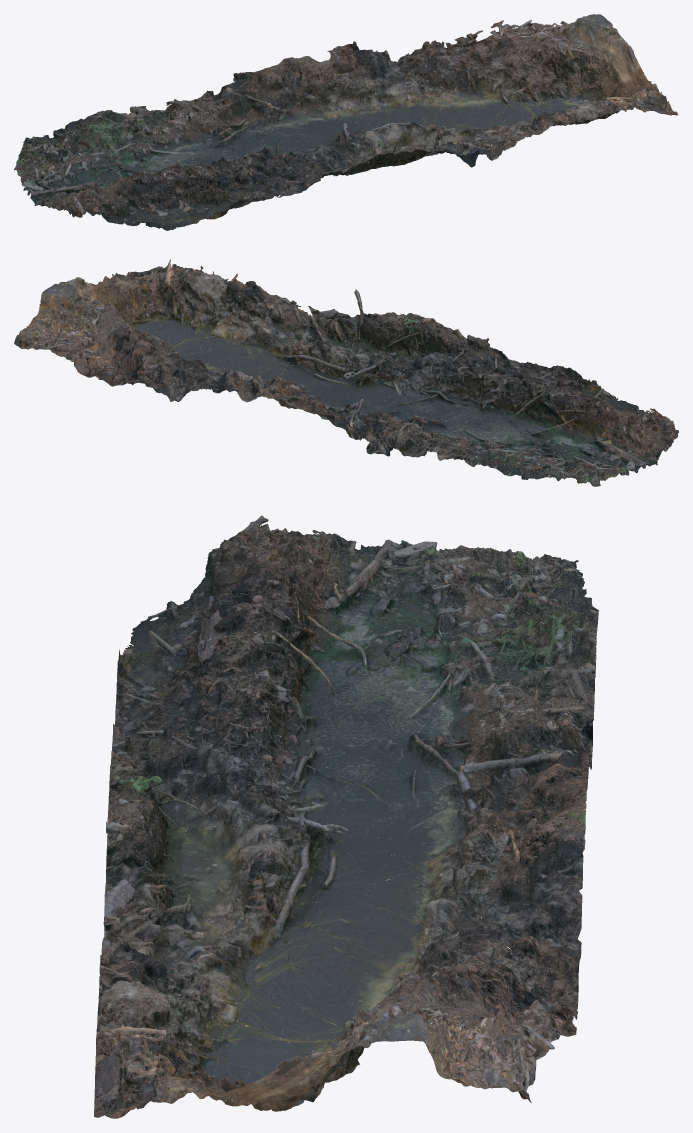
The model's file is sf-forest-mud-puddle-6a92c9.glb.
The picture shows the model from 3 angles, top to bottom: view 1: azimuth 30°, elevation 25°; view 2: azimuth 150°, elevation 25°; view 3: azimuth 270°, elevation 25°; orthographic projection. The views are drawn at different scales.
Visible parts, largest first — view 1: Model_material1_0, Model_material0_0, Model_material2_0; view 2: Model_material0_0, Model_material2_0, Model_material1_0; view 3: Model_material0_0, Model_material2_0, Model_material1_0.
Boxes of the visible parts, x1,y1,x2,y2 form: Model_material1_0: (16,19,671,230); Model_material0_0: (14,14,678,219); Model_material2_0: (18,22,673,228); Model_material0_0: (33,264,678,486); Model_material2_0: (14,260,675,483); Model_material1_0: (26,259,678,481); Model_material0_0: (94,515,596,1118); Model_material2_0: (94,517,598,1110); Model_material1_0: (95,528,597,1117).
Size of the model in its own units: 3.18 by 0.2997 by 1.19.
Materials: 3 (3 with a texture image).
